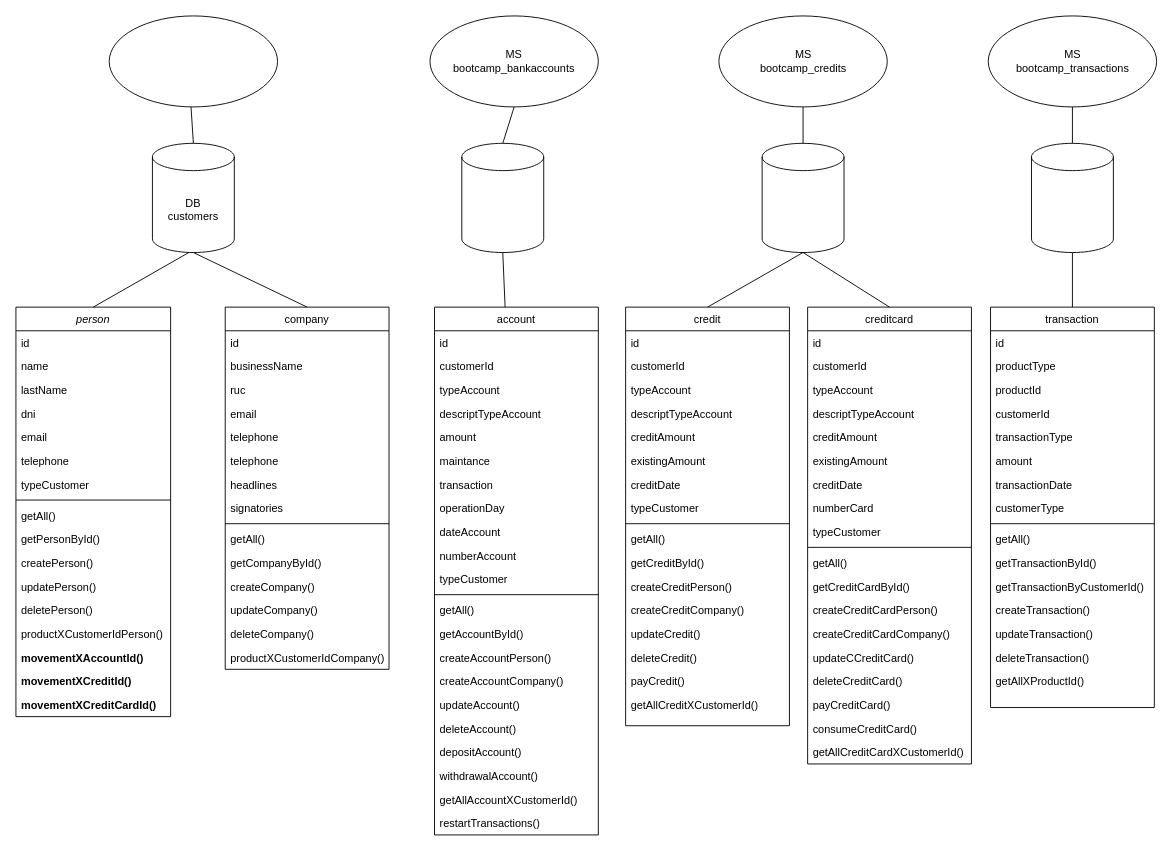
This 1173x854 diagram has some shape labels left out. Here are the shapes that lost their labels. From the top down, the centre of each, then its label:
At point (193, 61): "MS bootcamp_customers".
At point (502, 197): "DB accounts".
At point (802, 197): "DB credits".
At point (1072, 197): "DB transactions".
